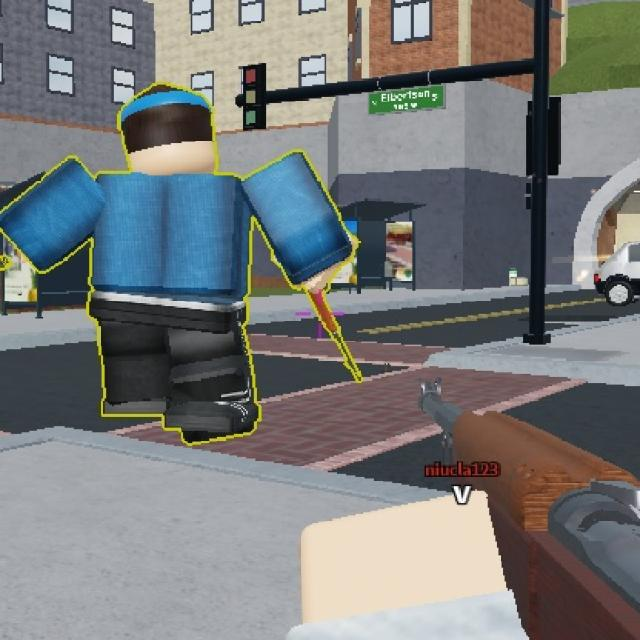player: (66, 83, 274, 454)
